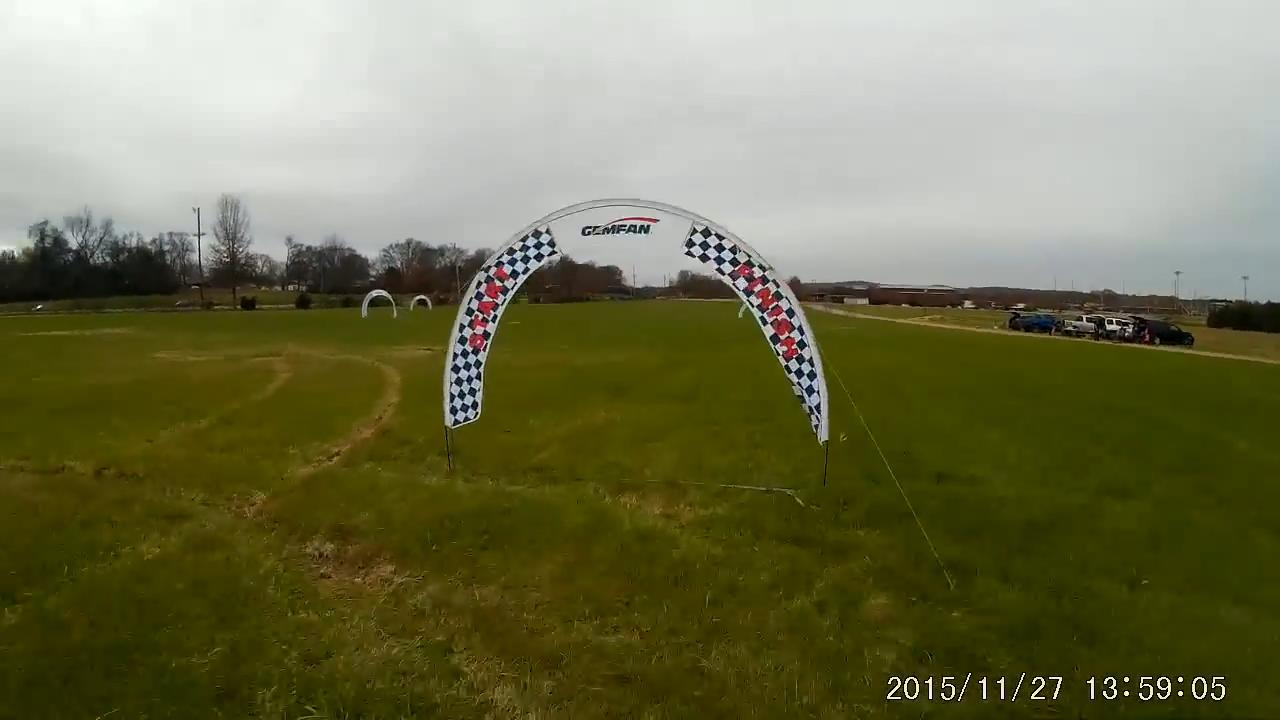gate: (439, 196, 834, 445)
